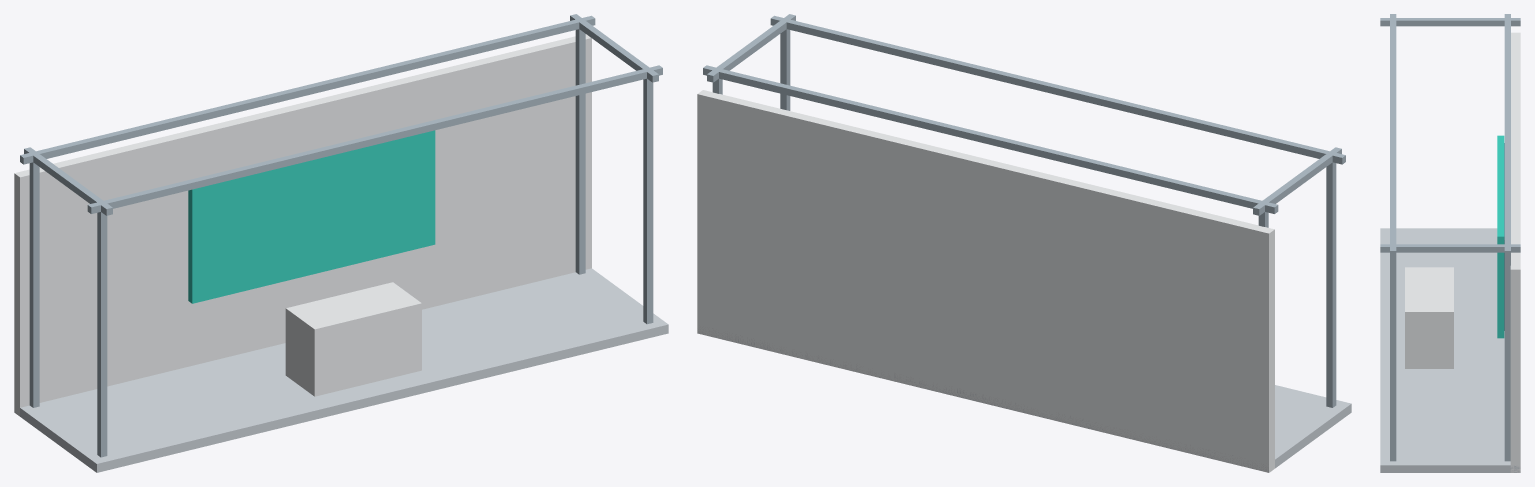
3 renders of one model, left to right at view 1: azimuth 30°, elevation 25°; view 2: azimuth 150°, elevation 25°; view 3: azimuth 270°, elevation 25°, orthographic. The views are drawn at different scales.
Visible parts, largest first — view 1: Exhibition Booth Concept; view 2: Exhibition Booth Concept; view 3: Exhibition Booth Concept.
Boxes of the visible parts, bbox=[...] form: Exhibition Booth Concept: bbox=[14, 14, 668, 472]; Exhibition Booth Concept: bbox=[697, 14, 1351, 472]; Exhibition Booth Concept: bbox=[1380, 14, 1520, 472].
Size of the model in its own units: 8 by 3.49 by 2.
